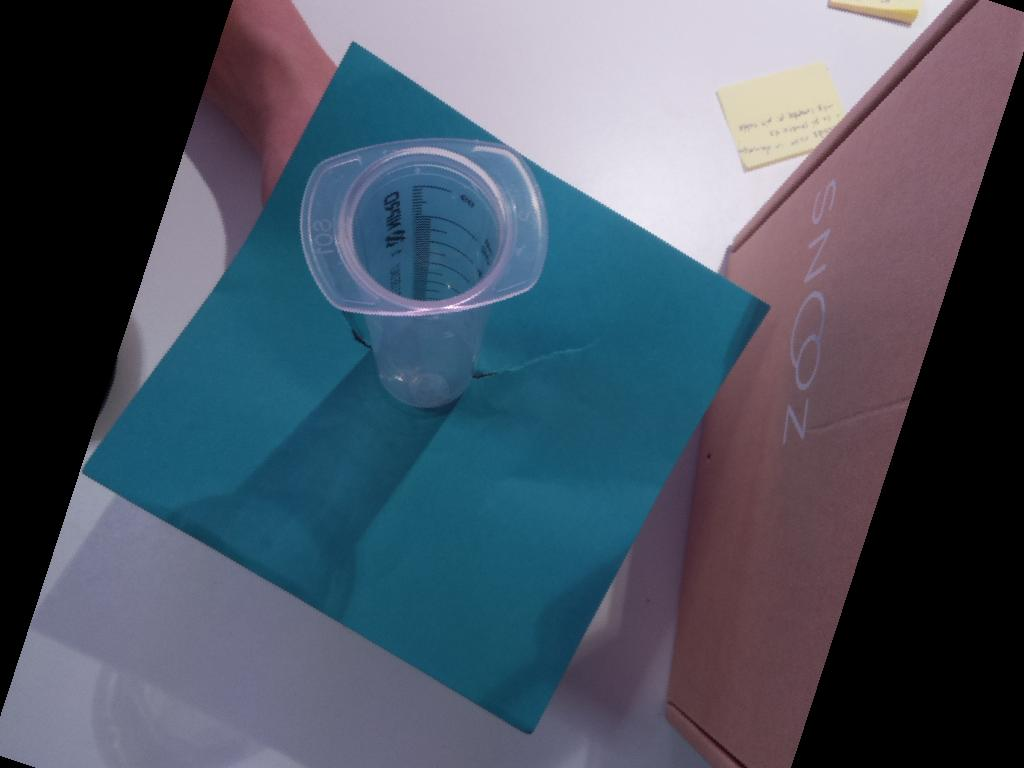clean: (298, 137, 551, 316)
